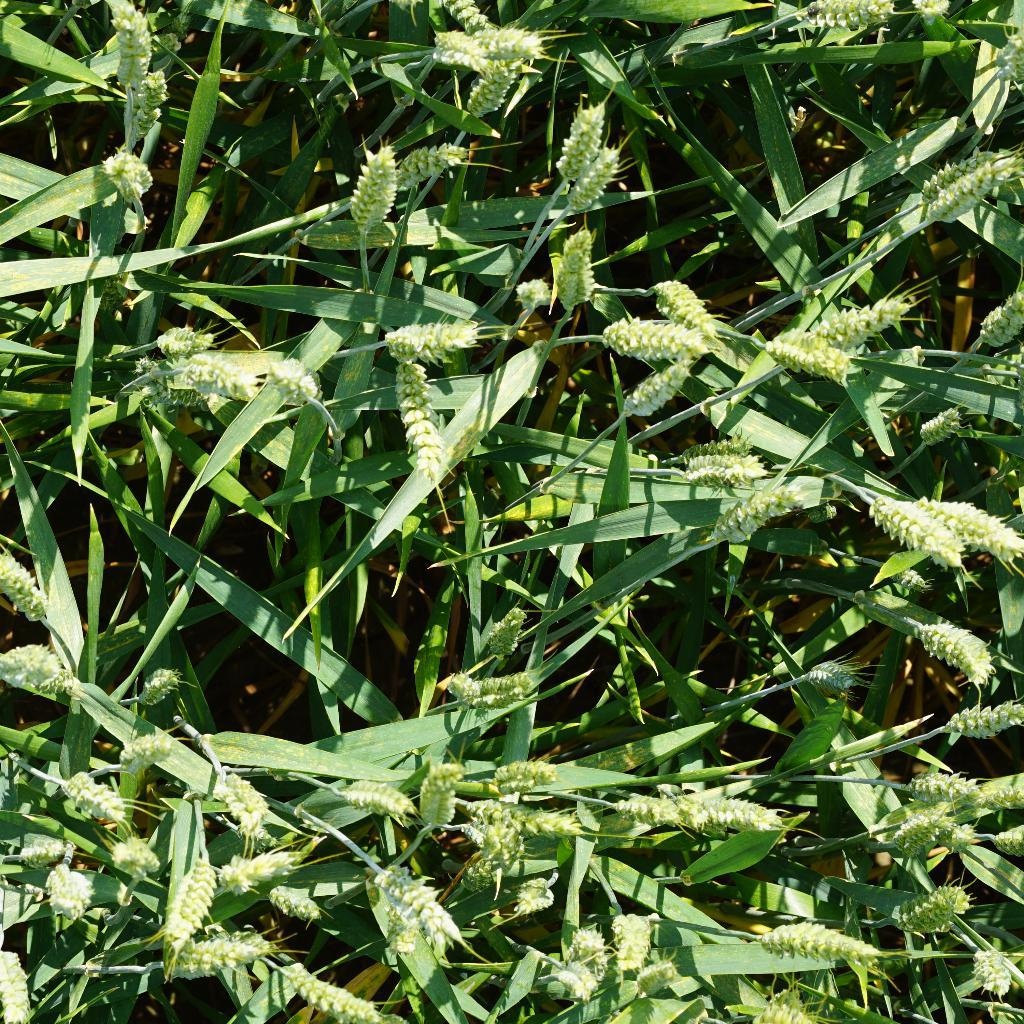0-0: (901, 594, 1008, 702), (698, 463, 803, 555), (744, 309, 859, 388), (858, 481, 963, 567), (367, 858, 462, 952), (757, 904, 900, 965), (922, 478, 1024, 562), (814, 273, 907, 357), (917, 142, 1024, 214), (391, 352, 452, 478), (154, 925, 276, 987), (335, 142, 408, 240), (545, 138, 631, 219), (168, 836, 216, 975), (453, 55, 530, 138), (871, 882, 989, 934), (454, 11, 566, 65), (692, 783, 798, 840), (288, 964, 388, 1024), (172, 354, 273, 413), (509, 791, 597, 855), (381, 316, 493, 366), (539, 97, 606, 180), (206, 840, 303, 897), (333, 768, 419, 832), (616, 365, 703, 426), (0, 642, 77, 710), (606, 317, 710, 366), (209, 758, 276, 834), (447, 662, 544, 714), (679, 439, 770, 494), (550, 223, 608, 309), (612, 777, 707, 829), (254, 346, 326, 413), (645, 268, 724, 329), (108, 716, 174, 789), (0, 541, 53, 631), (471, 799, 530, 879), (131, 354, 217, 408), (92, 141, 163, 206), (417, 24, 500, 76), (473, 597, 538, 662), (600, 903, 662, 971), (893, 747, 968, 803), (42, 855, 97, 931), (122, 65, 172, 148), (393, 138, 462, 198), (417, 755, 470, 833), (968, 279, 1024, 352), (881, 813, 960, 863), (794, 0, 903, 36), (62, 765, 122, 830), (942, 688, 1024, 735), (508, 863, 570, 925), (107, 0, 150, 89), (481, 755, 563, 800), (0, 933, 40, 1024), (792, 649, 863, 698), (671, 431, 759, 470), (965, 945, 1024, 1003), (376, 890, 426, 957), (109, 833, 168, 889), (548, 955, 603, 1008), (557, 926, 612, 977), (153, 324, 221, 362), (266, 886, 328, 927), (627, 956, 687, 996), (93, 263, 134, 320), (13, 833, 76, 870), (509, 271, 555, 320), (159, 0, 208, 45), (134, 668, 186, 709), (917, 405, 964, 449), (971, 773, 1023, 812), (423, 0, 486, 32), (882, 559, 932, 598), (458, 856, 496, 899), (806, 498, 836, 525)
